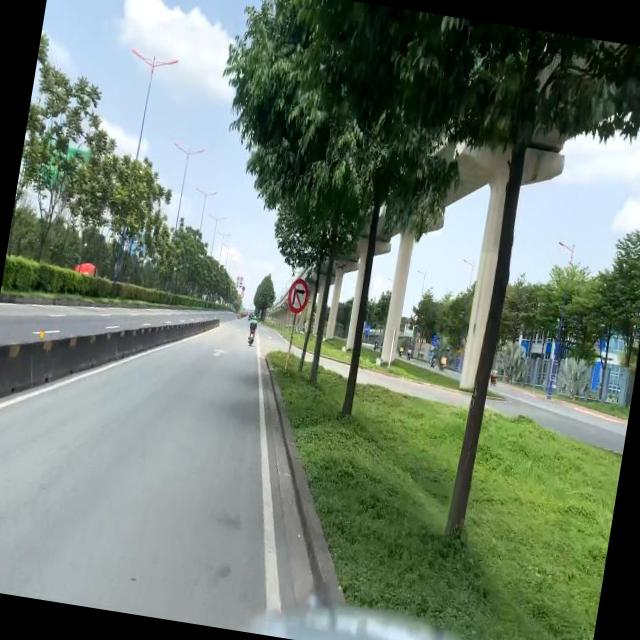P-123b: (286, 278, 310, 310)
